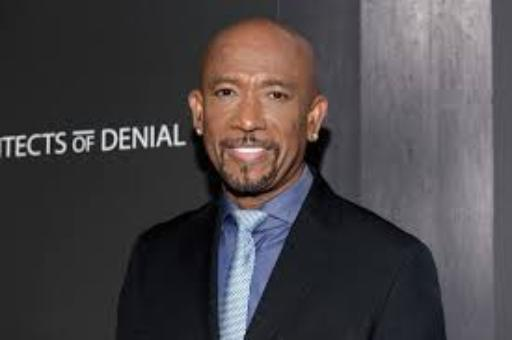left_eye: (264, 91, 296, 104)
left_lip_corner: (269, 144, 282, 155)
right_eye: (214, 89, 239, 101)
right_lip_corner: (224, 145, 237, 156)
